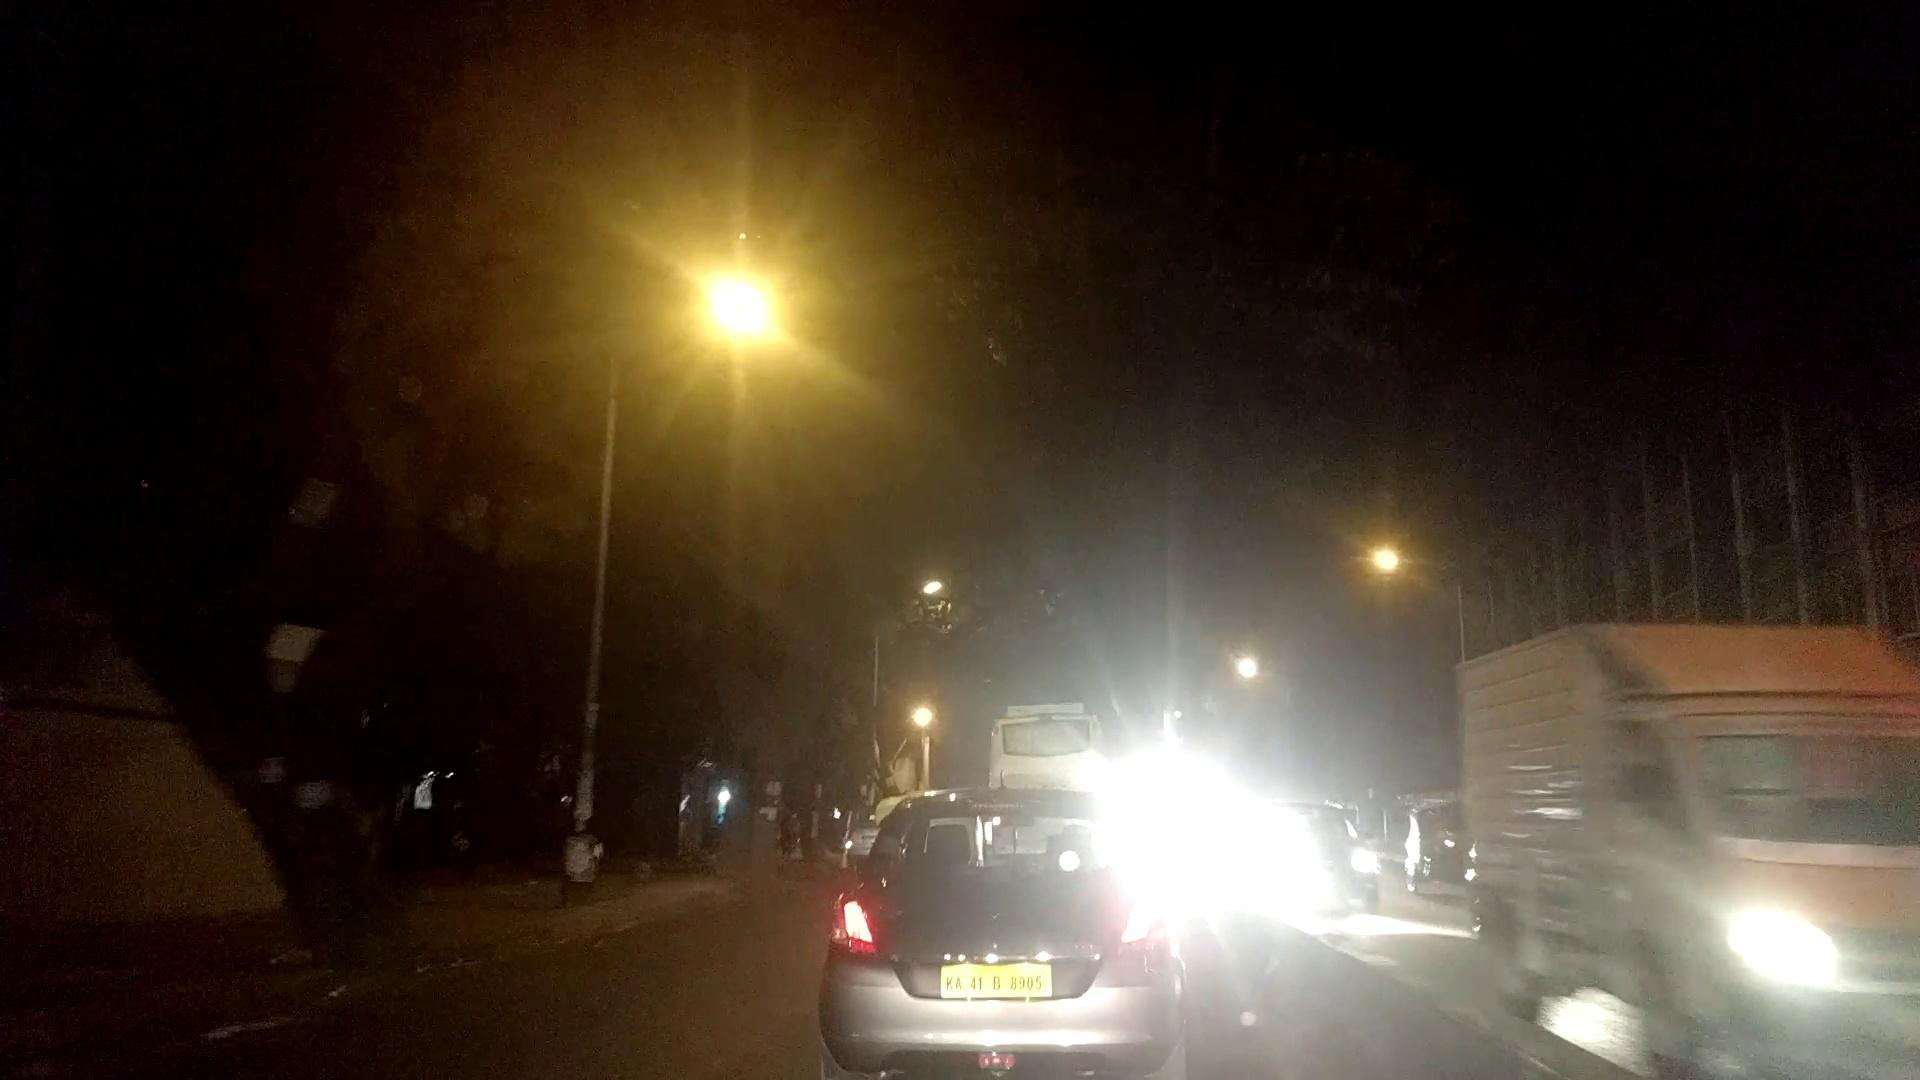on: (630, 162, 935, 579), (1200, 442, 1559, 651)
